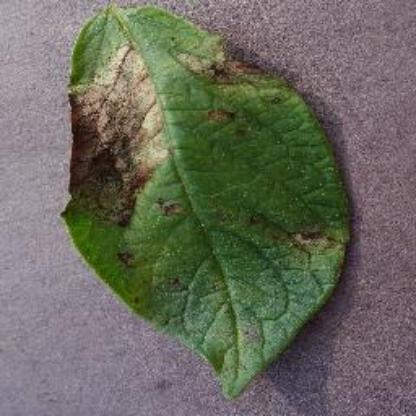Late-Blight: (58, 5, 366, 396)
